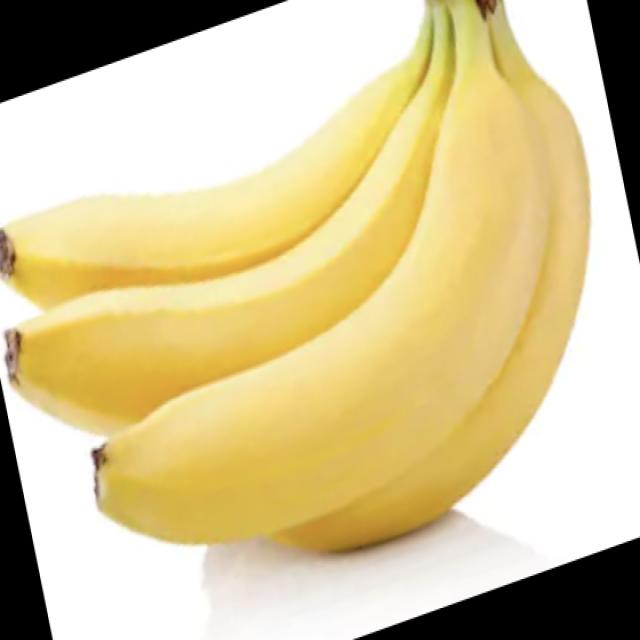banana: (0, 42, 615, 576)
